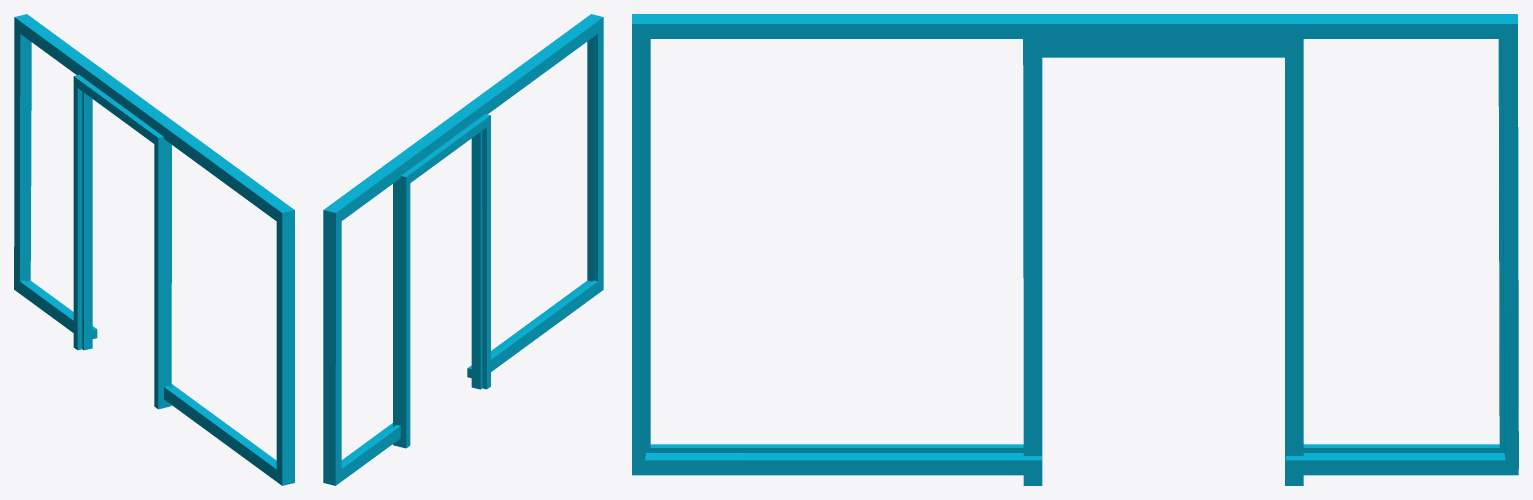
Rendered from Shop_03_Wall_Orn_04.fbx.
3 views of the same model, side by side, from view 1: azimuth 30°, elevation 25°; view 2: azimuth 150°, elevation 25°; view 3: azimuth 270°, elevation 25° (orthographic). The views are drawn at different scales.
Visible parts, largest first — view 1: Shop_03_Wall_Orn_04; view 2: Shop_03_Wall_Orn_04; view 3: Shop_03_Wall_Orn_04.
Boxes of the visible parts, bbox=[...] form: Shop_03_Wall_Orn_04: bbox=[14, 14, 294, 485]; Shop_03_Wall_Orn_04: bbox=[323, 14, 603, 485]; Shop_03_Wall_Orn_04: bbox=[632, 14, 1518, 485].
Bounding box in the file's own units: 15.74 × 234 × 404.
